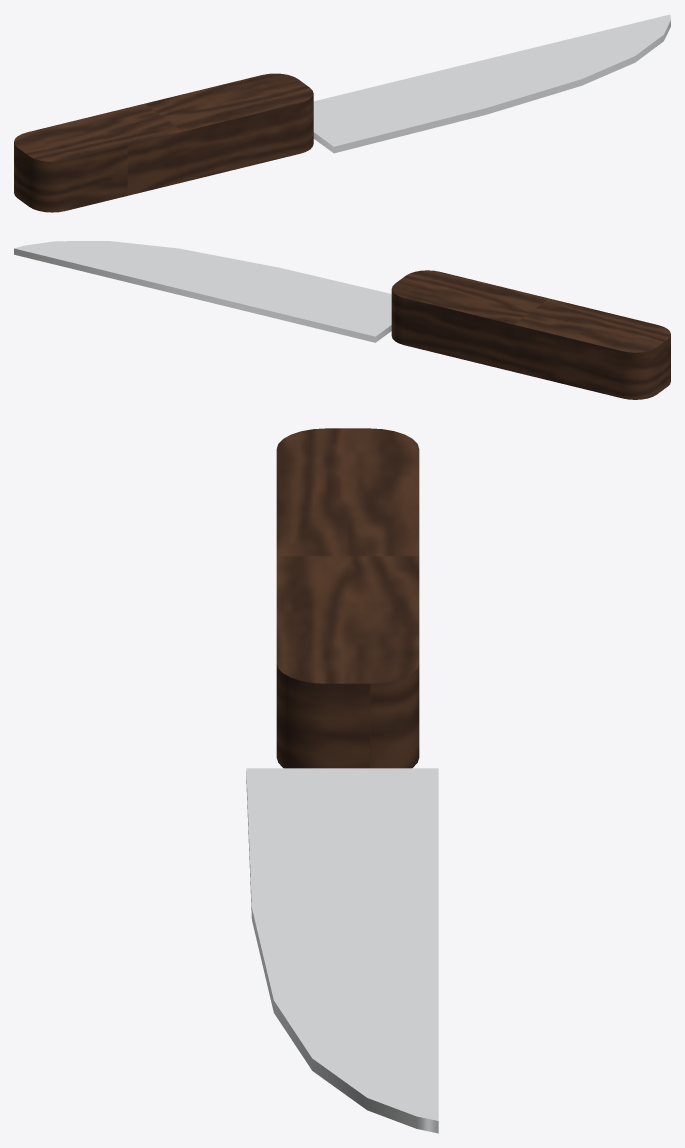
3 views of the same model, one above another, from view 1: azimuth 30°, elevation 25°; view 2: azimuth 150°, elevation 25°; view 3: azimuth 270°, elevation 25° (orthographic). The views are drawn at different scales.
Visible parts, largest first — view 1: Kitchen knife; view 2: Kitchen knife; view 3: Kitchen knife.
Boxes of the visible parts, <box> form: Kitchen knife: <box>14,14,670,212</box>; Kitchen knife: <box>14,241,670,399</box>; Kitchen knife: <box>246,428,438,1133</box>.
Bounding box in the file's own units: 0.263 × 0.019 × 0.035.
Materials: 2 (1 with a texture image).
